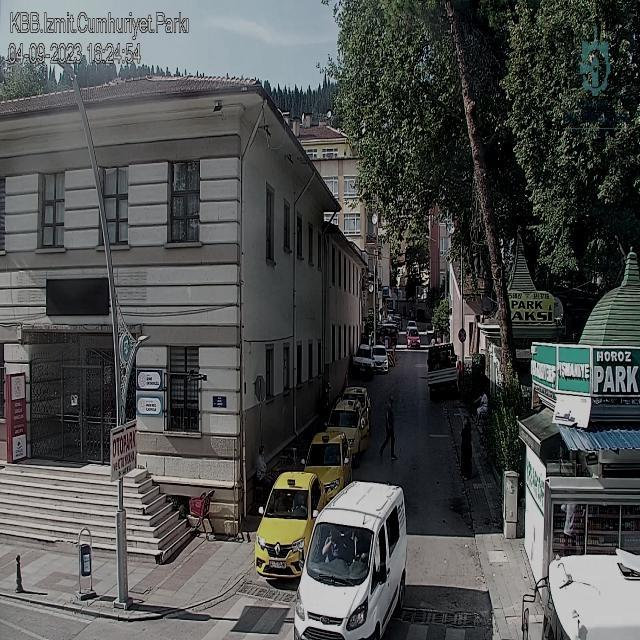Car: (245, 472, 337, 578), (296, 432, 350, 499), (320, 402, 366, 454), (333, 384, 368, 421), (373, 346, 389, 374), (405, 329, 423, 349)
Van: (292, 483, 422, 640)
